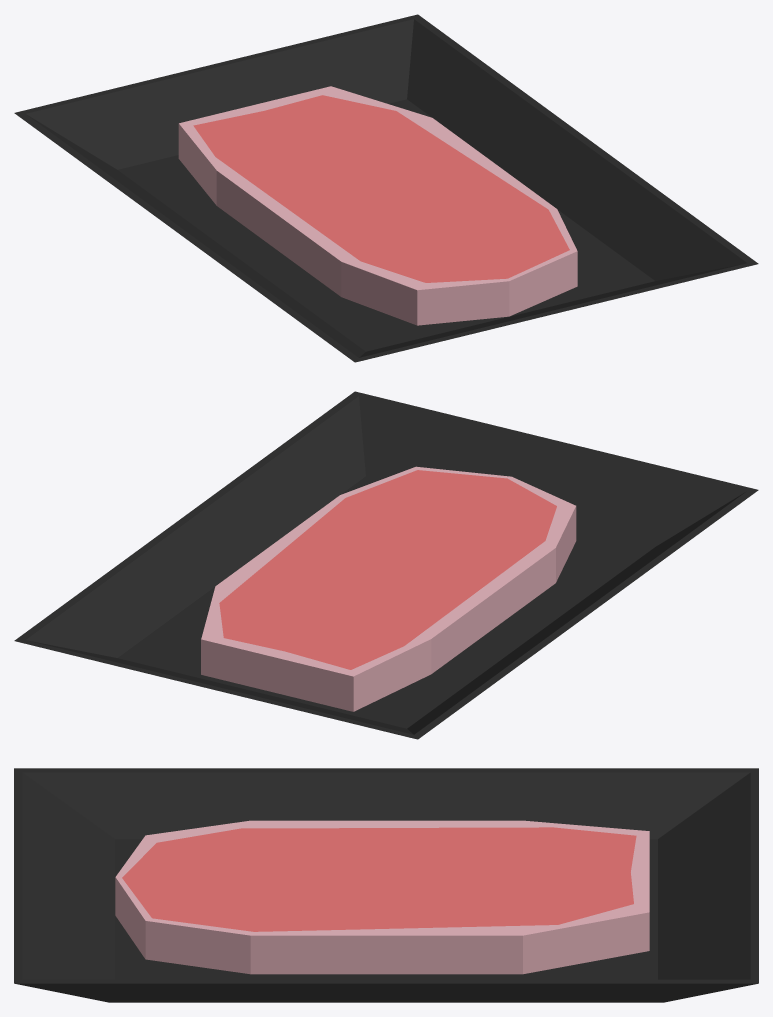
The model's file is carne02.fbx.
The picture shows the model from 3 angles, top to bottom: view 1: azimuth 30°, elevation 25°; view 2: azimuth 150°, elevation 25°; view 3: azimuth 270°, elevation 25°; orthographic projection. The views are drawn at different scales.
Parts seen in each view (by area): view 1: Bife; view 2: Bife; view 3: Bife.
Part boxes in pixels (x1,y1,x2,y2): Bife: (14,14,758,362); Bife: (14,391,758,739); Bife: (14,768,758,1002).
Bounding box in the file's own units: 13.53 × 1.37 × 19.79.
